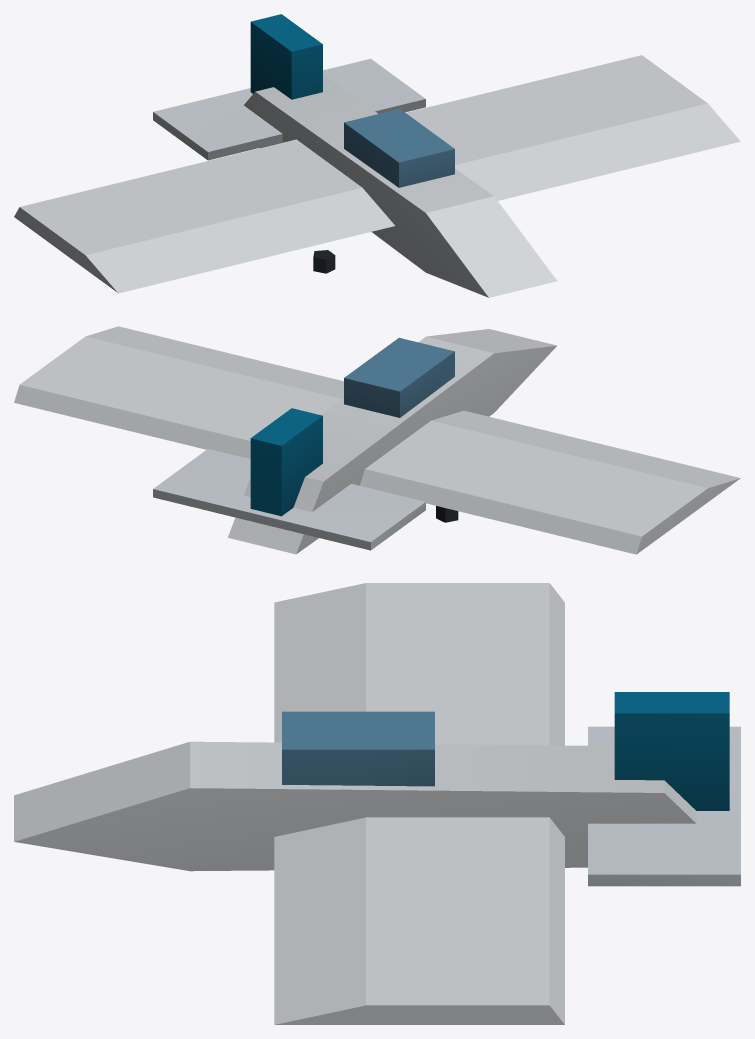
Rendered from light-aircraft.glb.
The picture shows the model from 3 angles, top to bottom: view 1: azimuth 30°, elevation 25°; view 2: azimuth 150°, elevation 25°; view 3: azimuth 270°, elevation 25°; orthographic projection. The views are drawn at different scales.
Visible parts, largest first — view 1: light-aircraft; view 2: light-aircraft; view 3: light-aircraft.
Part boxes in pixels (x1=…): light-aircraft: x1=14, y1=14, x2=740, y2=297; light-aircraft: x1=14, y1=326, x2=740, y2=554; light-aircraft: x1=14, y1=583, x2=740, y2=1024.
Bounding box in the file's own units: 11 × 2.5 × 8.
